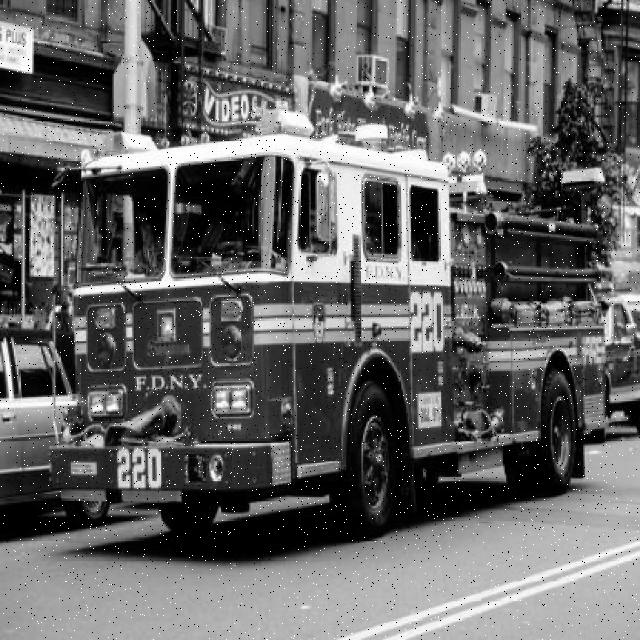Fire Truck: (45, 111, 608, 537)
